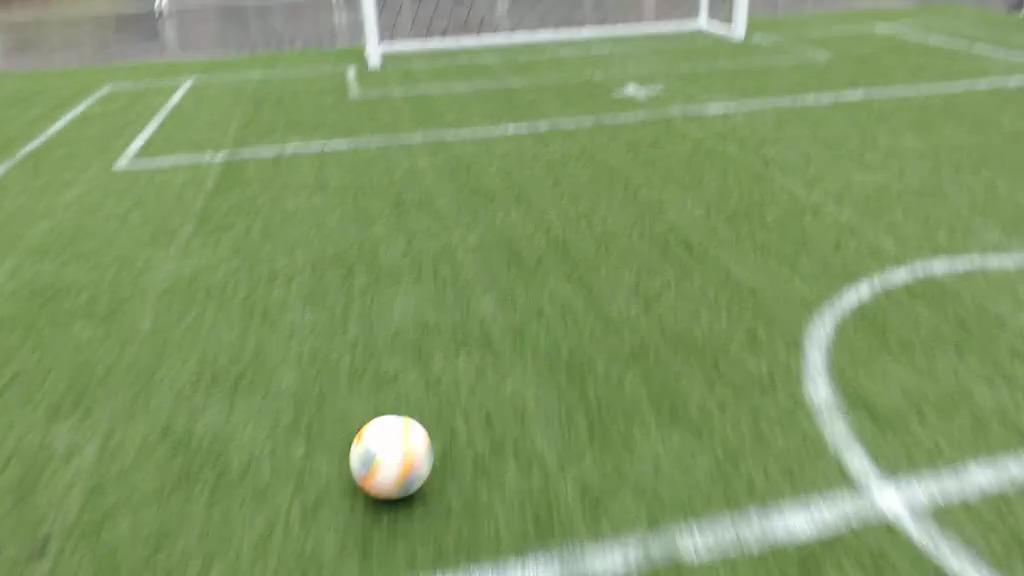ball: (349, 414, 433, 498)
